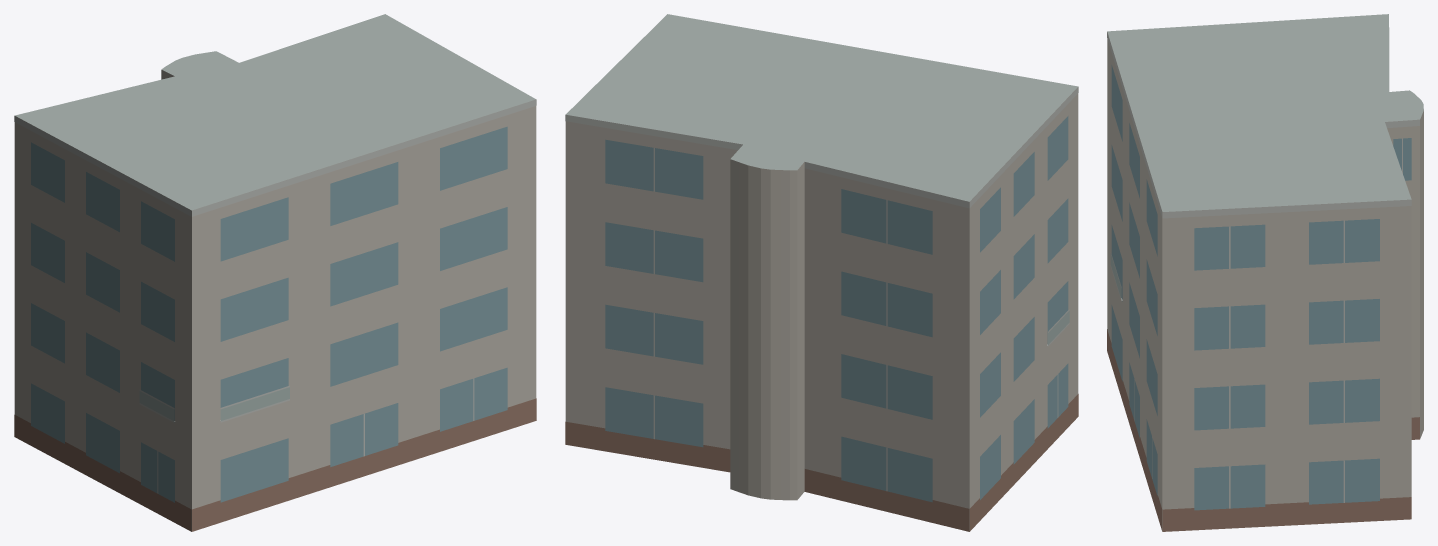
File: survey-upis-32760334.glb
The picture shows the model from 3 angles, left to right: view 1: azimuth 30°, elevation 25°; view 2: azimuth 150°, elevation 25°; view 3: azimuth 270°, elevation 25°; orthographic projection. The views are drawn at different scales.
Visible parts, largest first — view 1: survey-upis-32760334.tmp; view 2: survey-upis-32760334.tmp; view 3: survey-upis-32760334.tmp.
Part boxes in pixels (bbox=[...]): survey-upis-32760334.tmp: bbox=[14, 14, 536, 531]; survey-upis-32760334.tmp: bbox=[565, 14, 1078, 531]; survey-upis-32760334.tmp: bbox=[1107, 14, 1423, 531].
Size of the model in its own units: 16.35 by 12.3 by 11.05.
